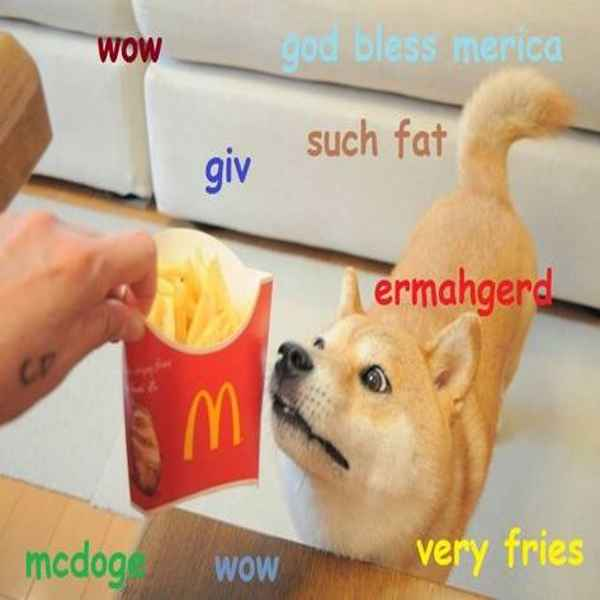doge: (258, 261, 496, 508)
